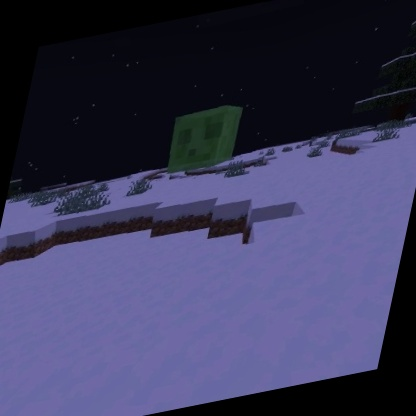slime: (163, 99, 248, 176)
